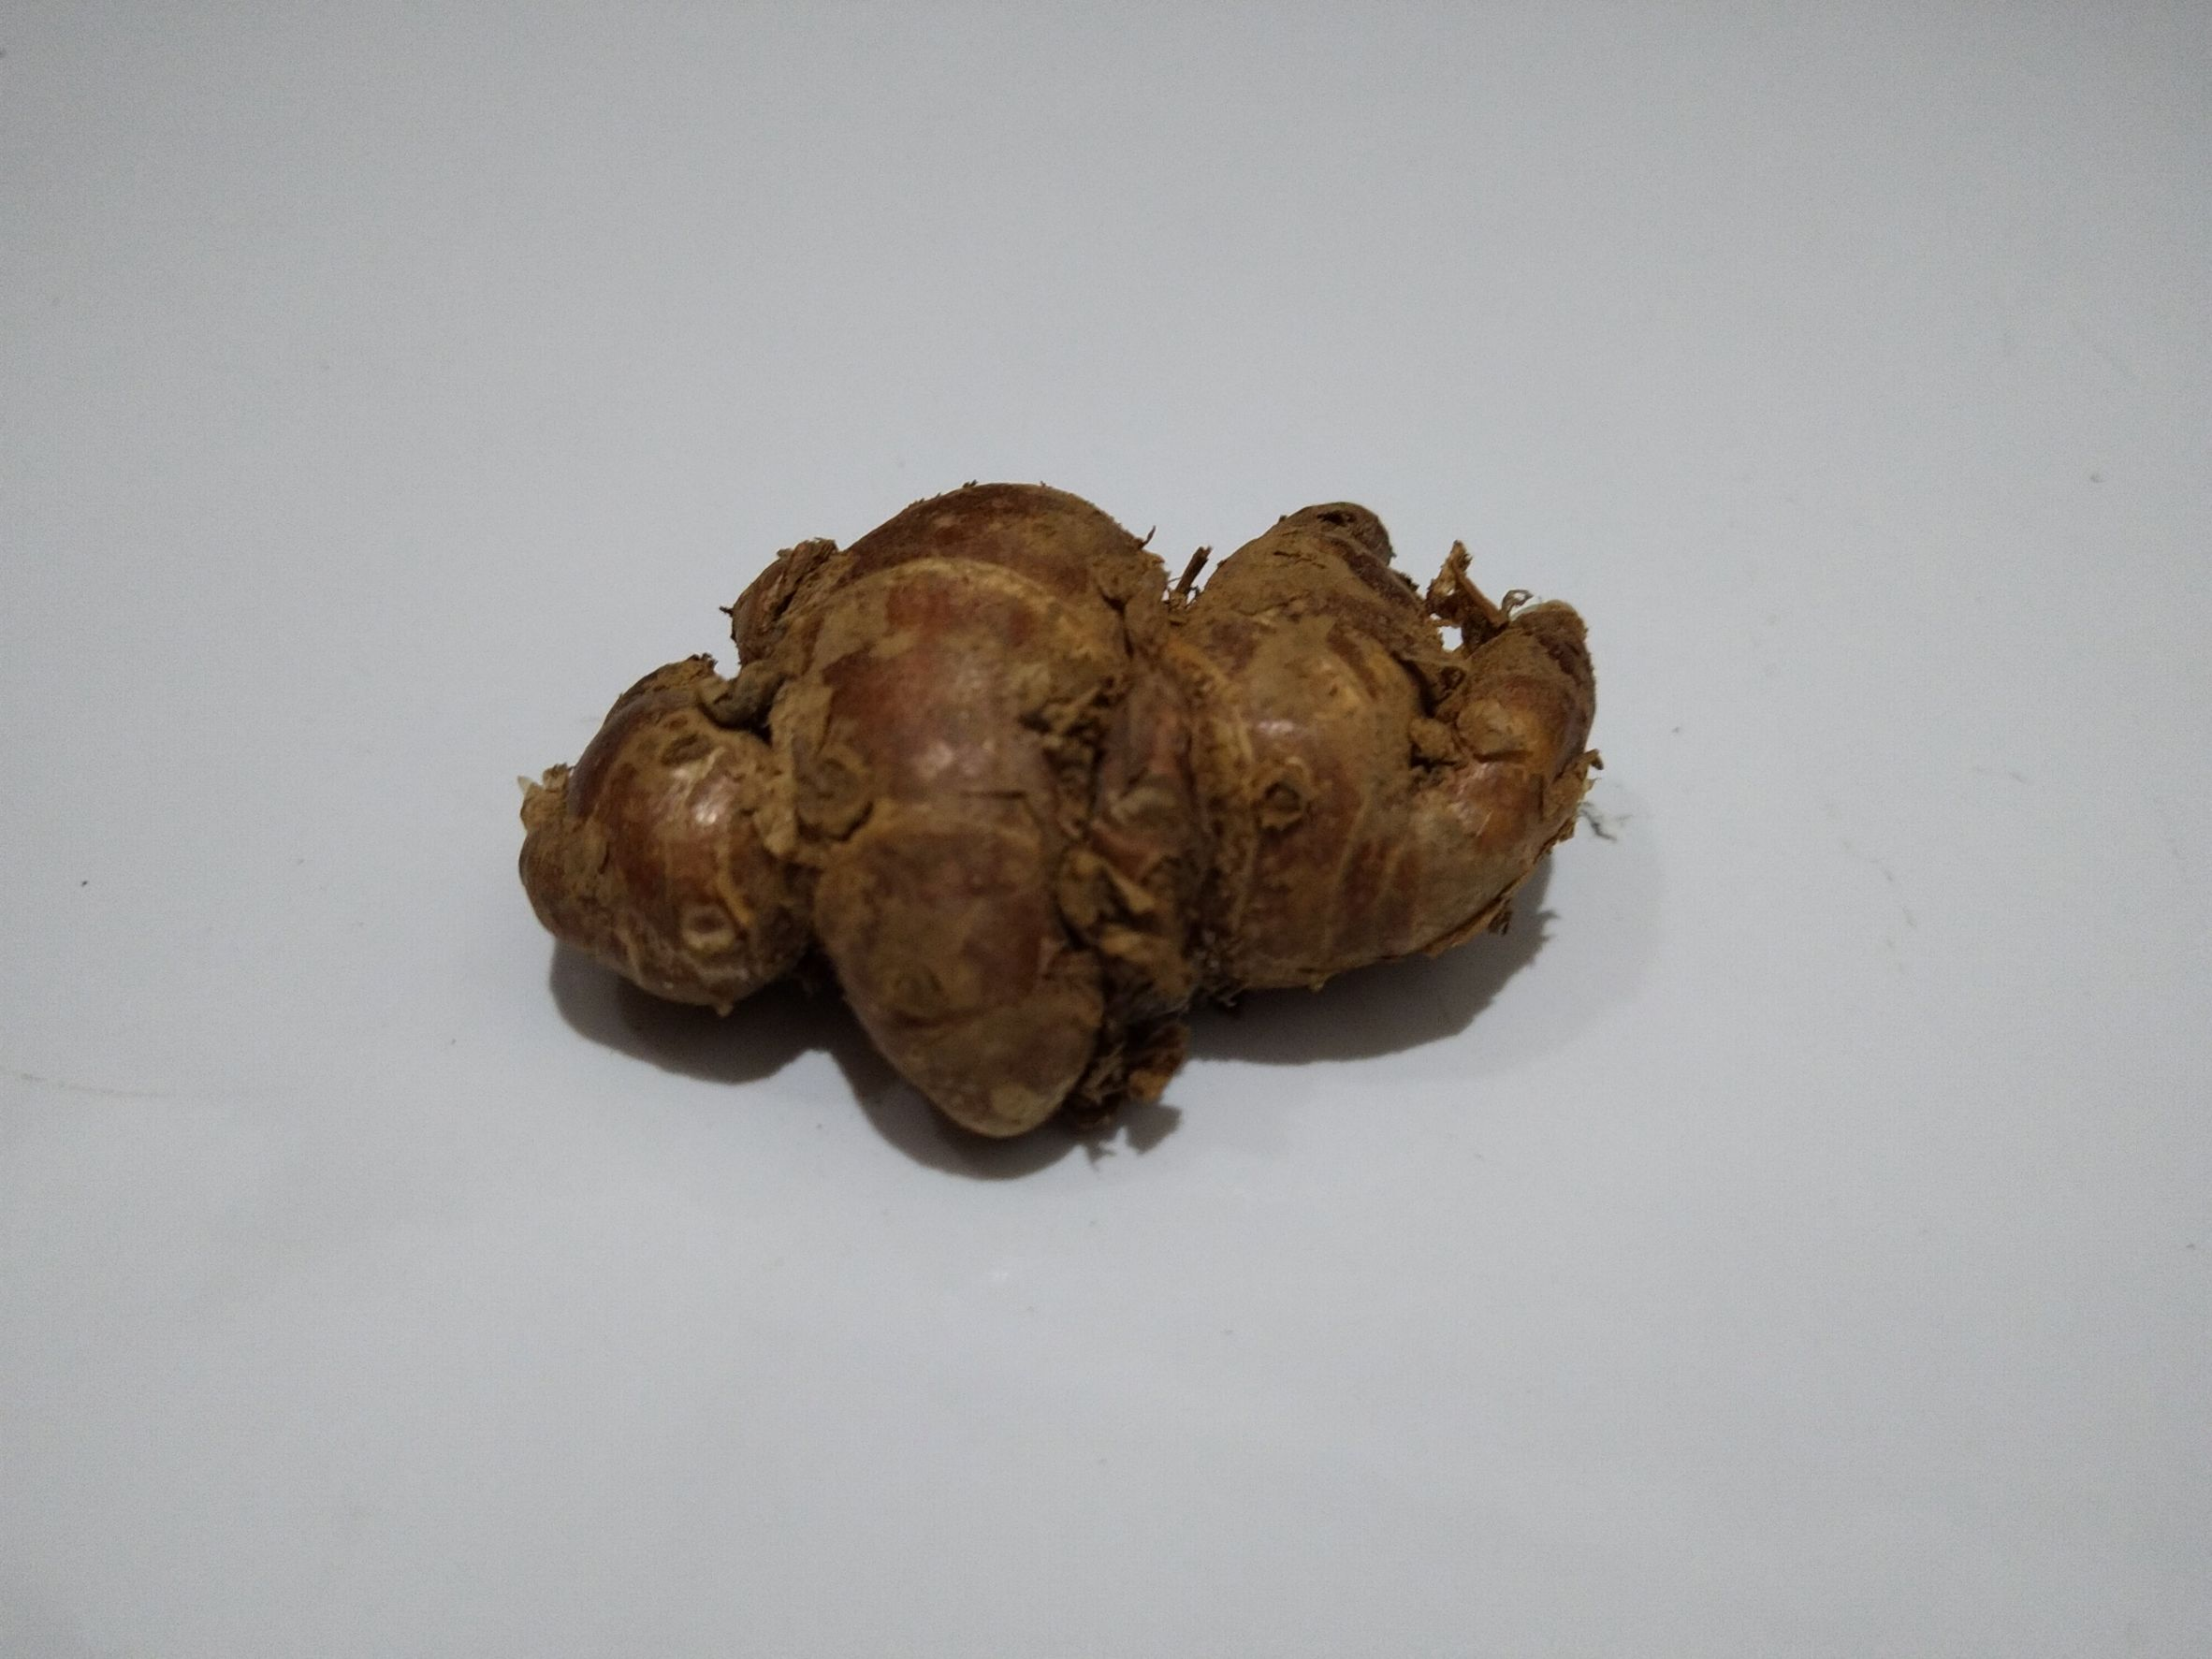Kencur: (516, 491, 1608, 1178)
